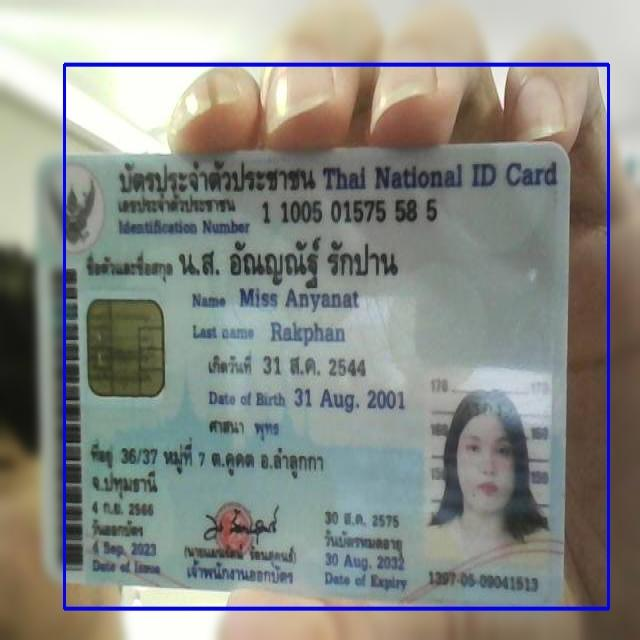Address_th: (86, 429, 330, 502)
Date_of_Birth: (290, 382, 409, 417)
Date_of_Expiry: (316, 548, 411, 576)
Date_of_Issue: (86, 536, 165, 559)
First_Name: (236, 284, 362, 316)
ID_Number: (256, 194, 440, 227)
Image: (422, 365, 551, 568)
Last_Name: (267, 318, 349, 349)
Thai_Name: (176, 235, 410, 286)
